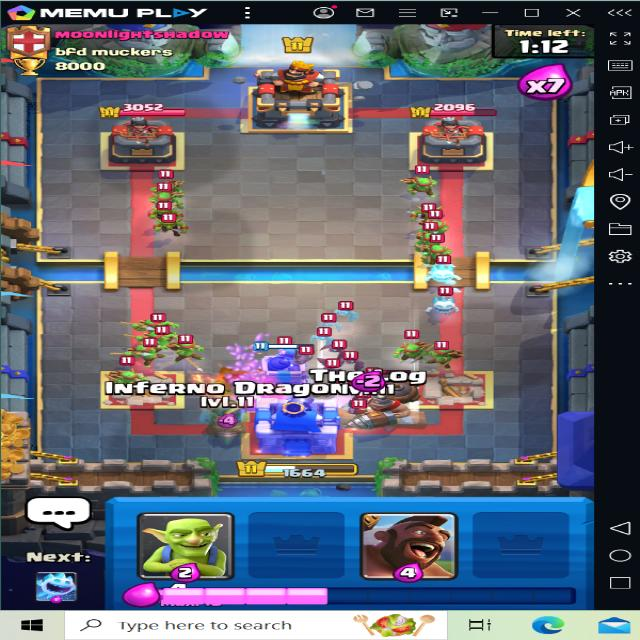bats: (279, 347, 323, 366), (319, 338, 353, 358), (342, 349, 374, 368), (321, 352, 347, 374)
goblin: (150, 213, 190, 238), (411, 199, 441, 222)
ice-spirit: (424, 290, 469, 319)
mighty-miner: (352, 362, 432, 432)
spear-goblin: (393, 326, 429, 358), (427, 342, 466, 370), (131, 311, 171, 335), (408, 173, 447, 195), (170, 341, 208, 361), (106, 366, 138, 389), (153, 186, 185, 207), (424, 240, 452, 264), (131, 341, 162, 362)
